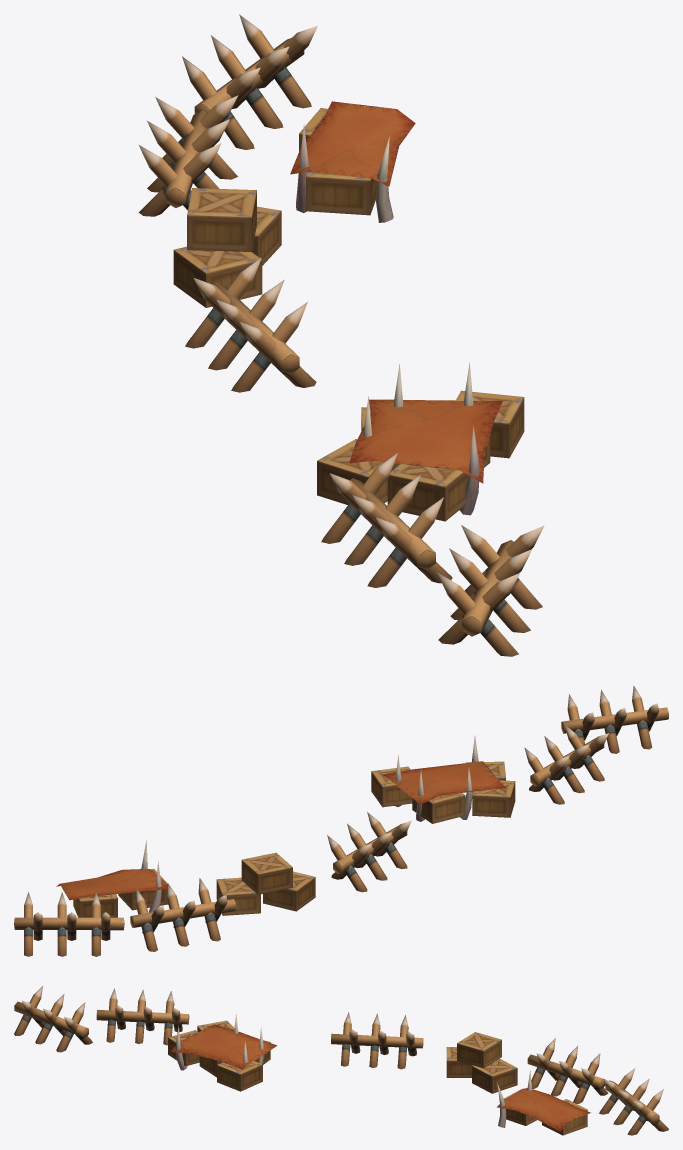
File: area_05_13.fbx
3 views of the same model, one above another, from view 1: azimuth 30°, elevation 25°; view 2: azimuth 150°, elevation 25°; view 3: azimuth 270°, elevation 25° (orthographic). The views are drawn at different scales.
Visible parts, largest first — view 1: area_05_13; view 2: area_05_13; view 3: area_05_13.
Part boxes in pixels (<box>): area_05_13: <box>139,14,544,656</box>; area_05_13: <box>14,685,668,956</box>; area_05_13: <box>14,986,668,1135</box>.
Size of the model in its own units: 16.39 by 2.9 by 37.46.
